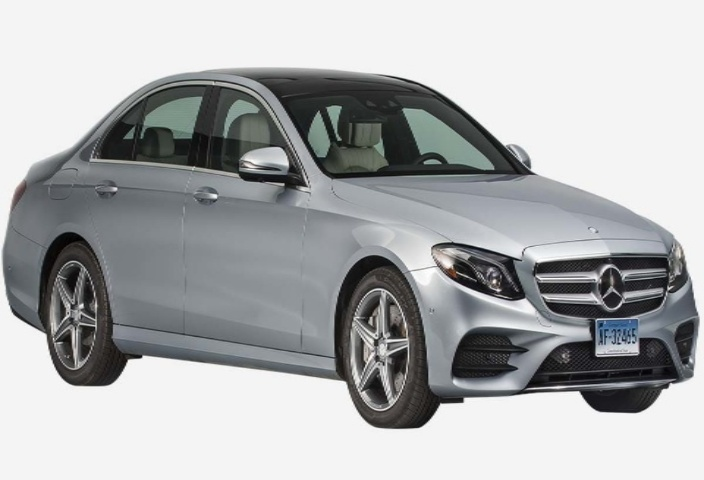car: (3, 48, 704, 420)
